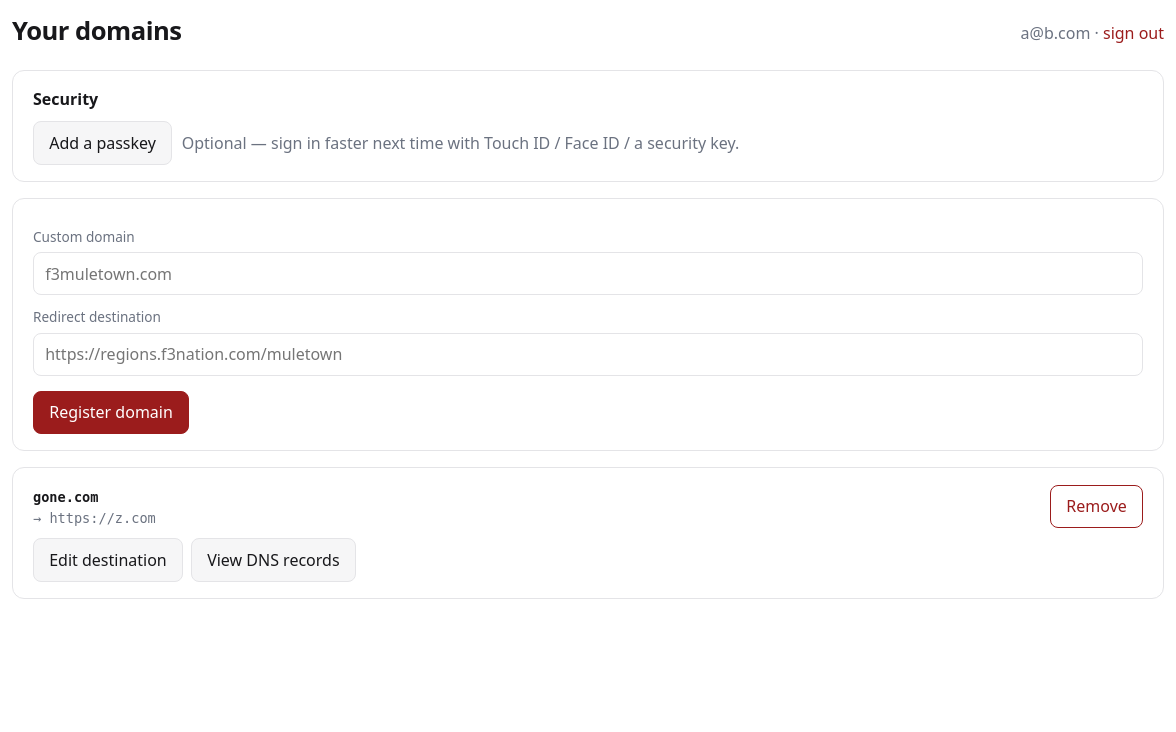
Test case: Dashboard › removes a domain (DELETE) and the card disappears
Step 1. Click the button "Remove" → [1097, 506], box [1050,484,1143,528]
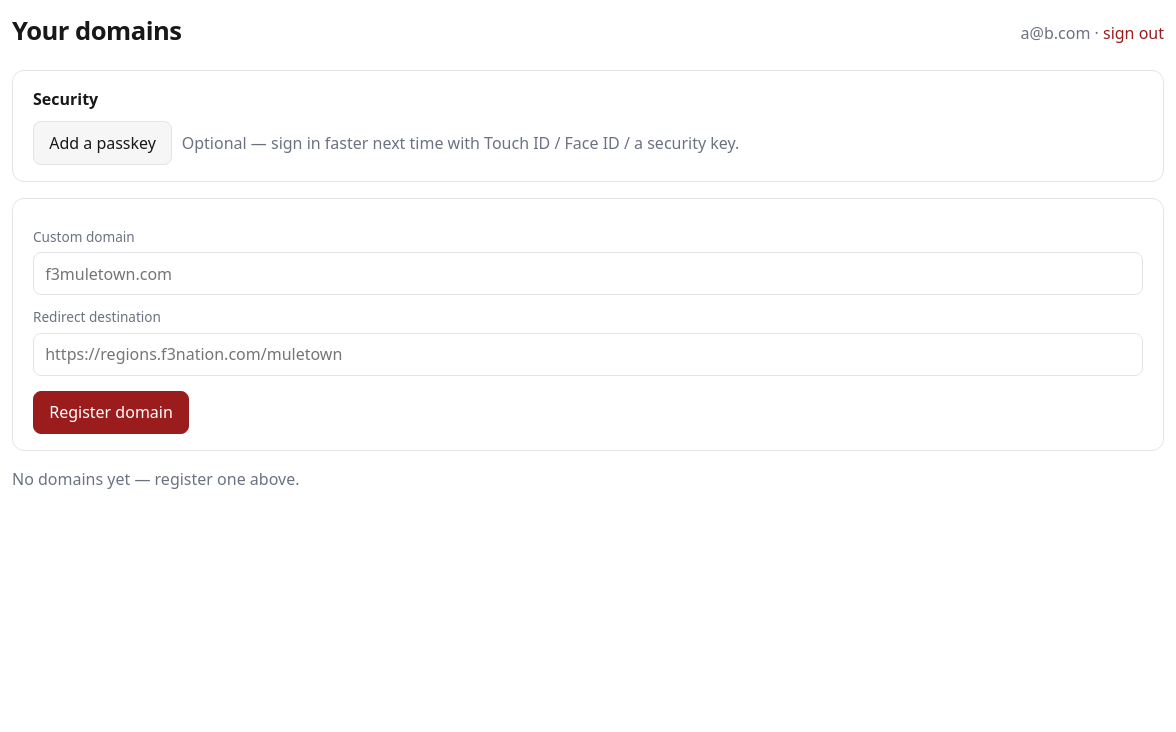
Check: the text "gone.com" is gone
